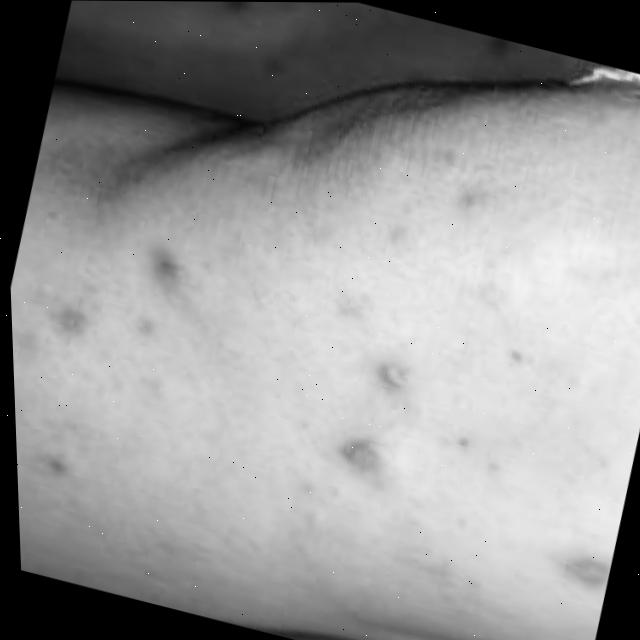Eczema: (1, 17, 640, 608)
